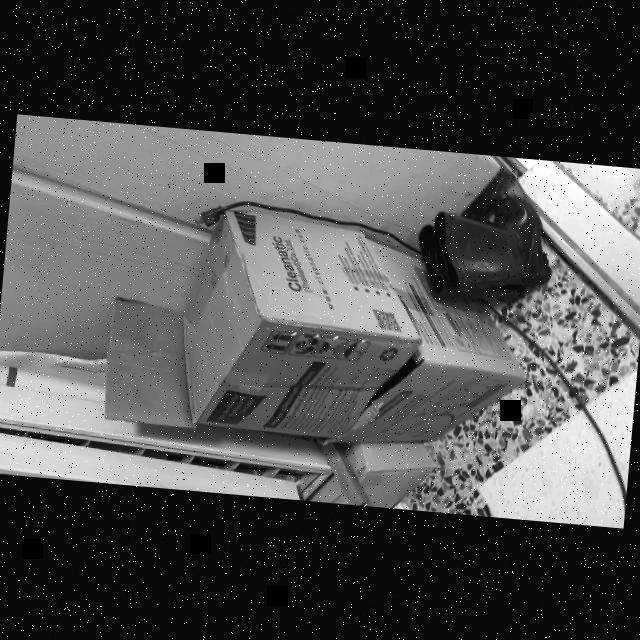cardboard_box: (102, 210, 428, 442), (316, 240, 526, 462)
